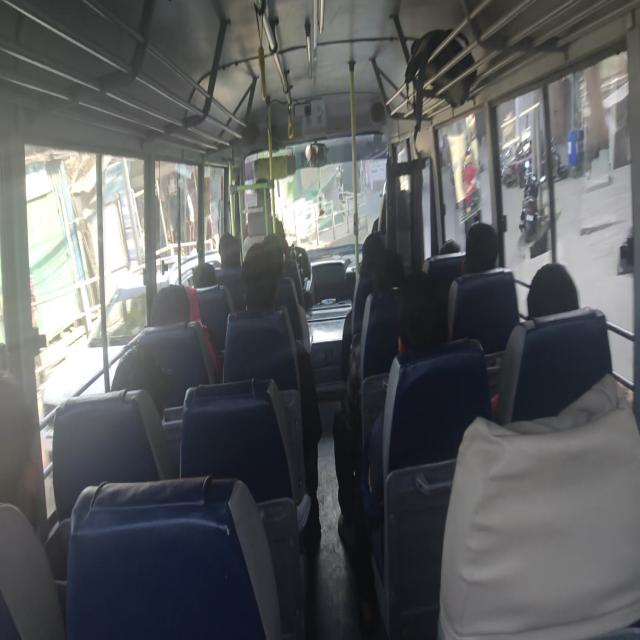person: (1, 367, 52, 523), (107, 332, 172, 416), (393, 271, 453, 358), (529, 261, 584, 328), (242, 242, 280, 316), (148, 280, 200, 328), (371, 171, 421, 213), (469, 220, 504, 277), (372, 258, 406, 304), (191, 258, 220, 309), (361, 226, 392, 266), (262, 227, 286, 274), (217, 224, 240, 273), (252, 172, 276, 210), (438, 233, 464, 259)
